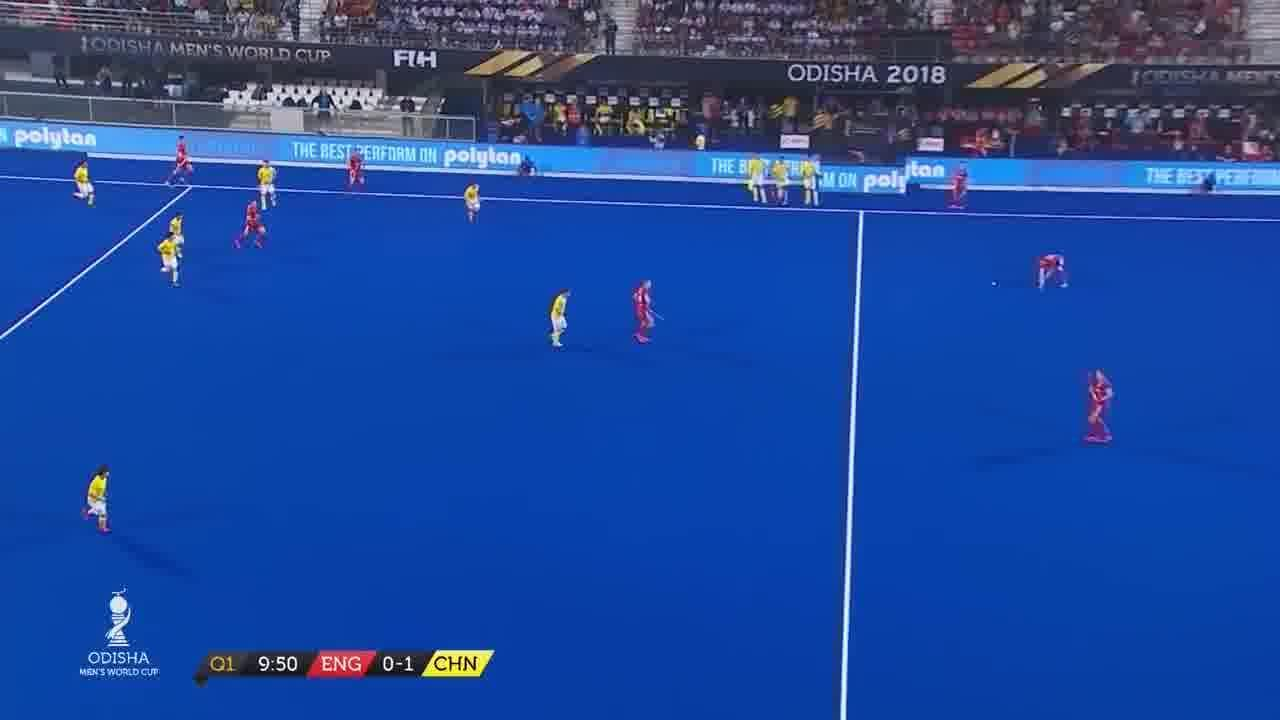ball: (989, 280, 998, 289)
